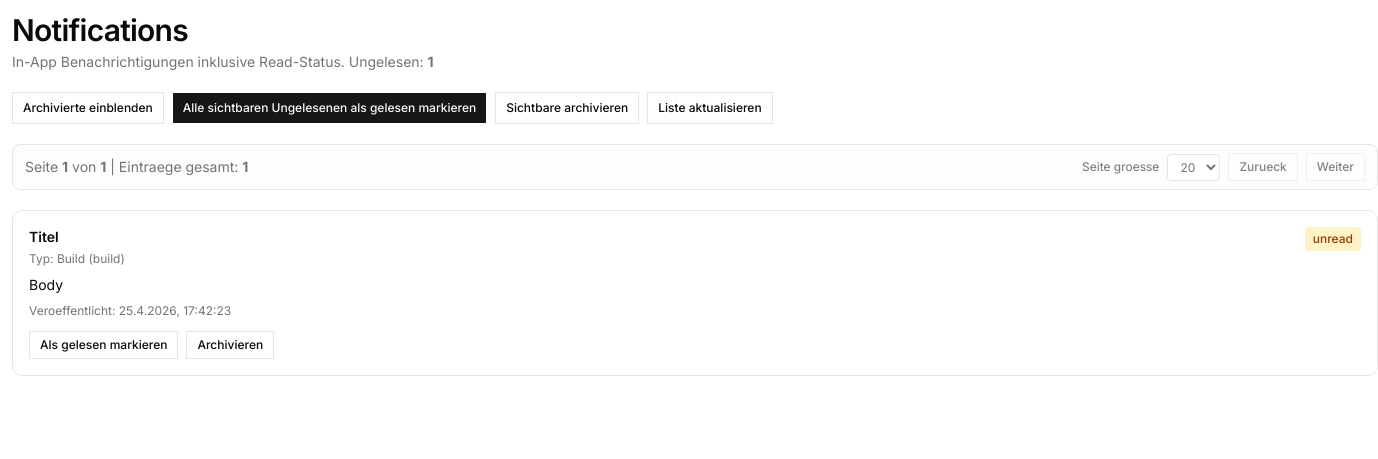
Test: Notification pages › shows success info after bulk mark as read
The width and height of the screenshot is (1378, 459).
Expected: the text "Titel" is shown, [29, 228, 59, 245]
Click the button "Alle sichtbaren Ungelesenen als gelesen markieren". click: click(330, 108)
box: [172, 92, 487, 124]
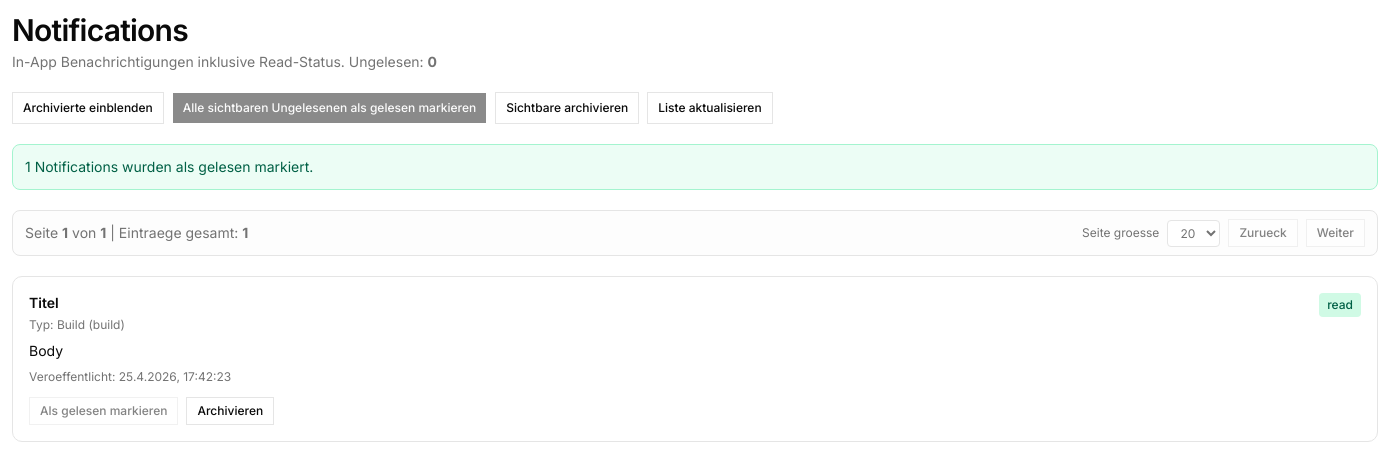
Expected: the text "1 Notifications wurden als gelesen markiert." is shown, [12, 144, 1377, 190]
